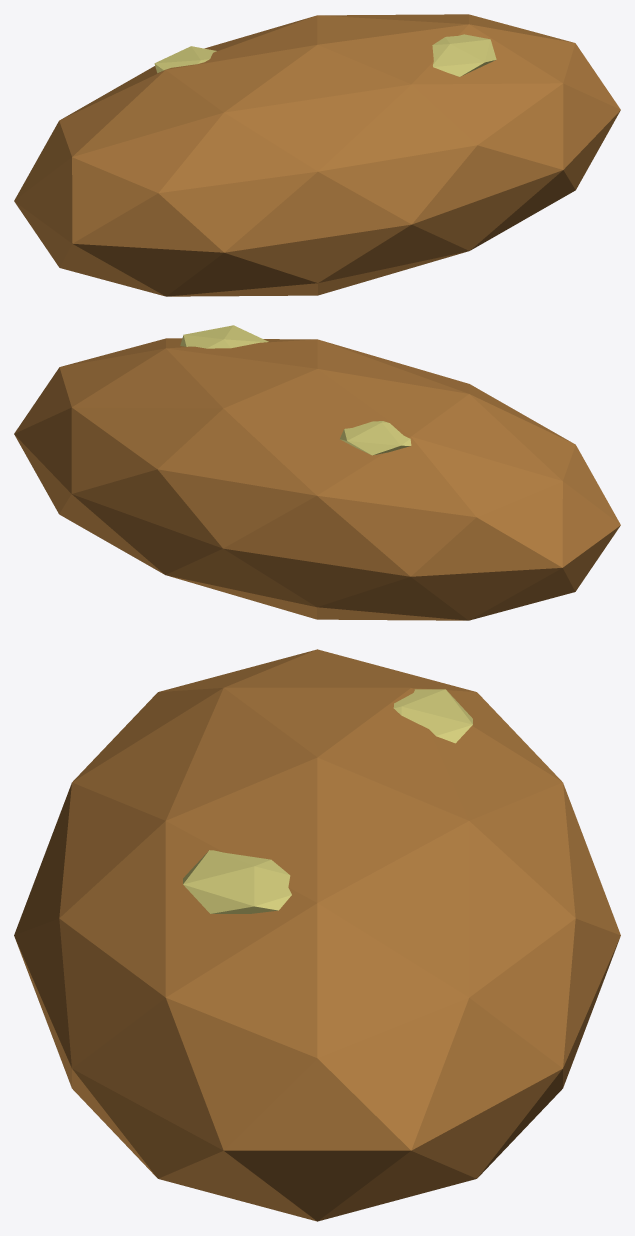
The model's file is Banana_Bread.glb.
The picture shows the model from 3 angles, top to bottom: view 1: azimuth 30°, elevation 25°; view 2: azimuth 150°, elevation 25°; view 3: azimuth 270°, elevation 25°; orthographic projection. The views are drawn at different scales.
Visible parts, largest first — view 1: _I_BananaBread; view 2: _I_BananaBread; view 3: _I_BananaBread.
Part boxes in pixels (left/top/right/bottom): _I_BananaBread: left=14, top=14, right=620, bottom=296; _I_BananaBread: left=14, top=325, right=620, bottom=620; _I_BananaBread: left=14, top=649, right=620, bottom=1221.
Bounding box in the file's own units: 0.485 × 0.187 × 0.289.
